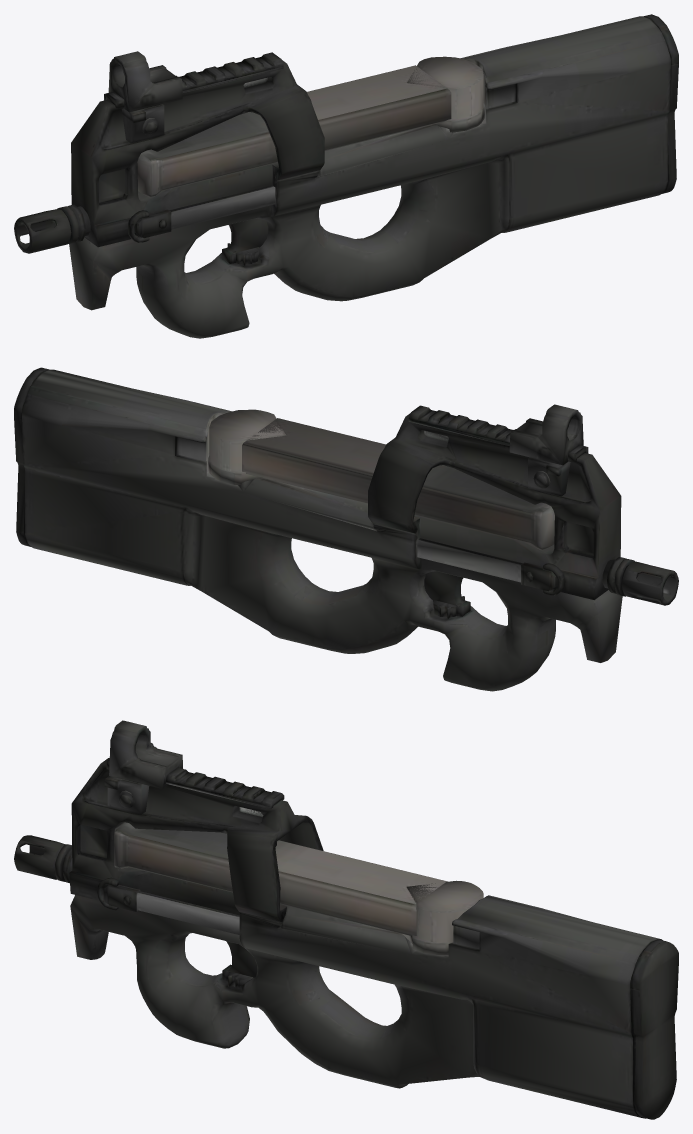
3 renders of one model, top to bottom at view 1: azimuth 30°, elevation 25°; view 2: azimuth 150°, elevation 25°; view 3: azimuth 330°, elevation 25°, orthographic.
Visible parts, largest first — view 1: p90; view 2: p90; view 3: p90.
Part boxes in pixels (x1=…): p90: x1=14, y1=14, x2=678, y2=338; p90: x1=14, y1=367, x2=678, y2=691; p90: x1=14, y1=720, x2=678, y2=1119.
Size of the model in its own units: 0.998 by 0.4434 by 0.1309.
1 material, 1 textured.
